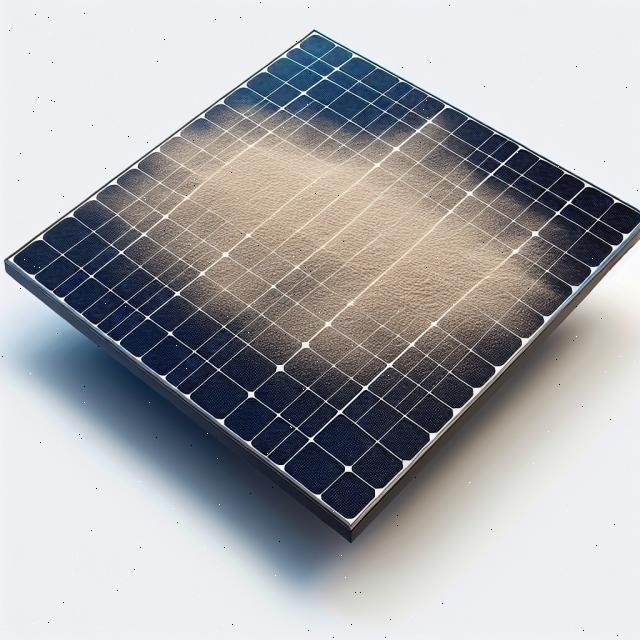Anomaly Solar Panel: (11, 0, 639, 553)
Surface Contaminant: (79, 0, 599, 490)
